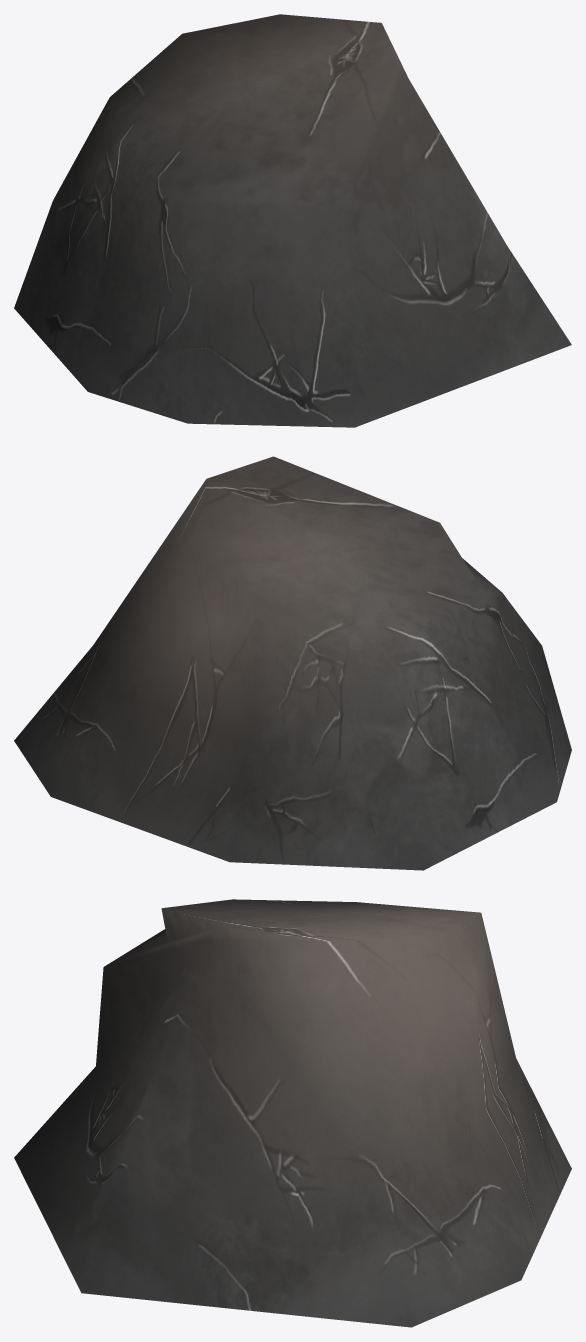
Rendered from pedraFazenda2.fbx.
3 views of the same model, one above another, from view 1: azimuth 30°, elevation 25°; view 2: azimuth 150°, elevation 25°; view 3: azimuth 270°, elevation 25° (orthographic). The views are drawn at different scales.
Visible parts, largest first — view 1: CA_OPE_Props_Fazenda; view 2: CA_OPE_Props_Fazenda; view 3: CA_OPE_Props_Fazenda.
Part boxes in pixels (box(x1,y1,x2,y2)): CA_OPE_Props_Fazenda: box(14, 14, 571, 427); CA_OPE_Props_Fazenda: box(14, 456, 571, 870); CA_OPE_Props_Fazenda: box(14, 899, 571, 1327).
Size of the model in its own units: 2.75 by 1.49 by 2.49.
